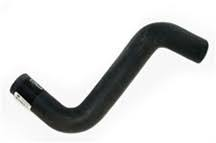radiator_hose: (10, 22, 208, 133)
